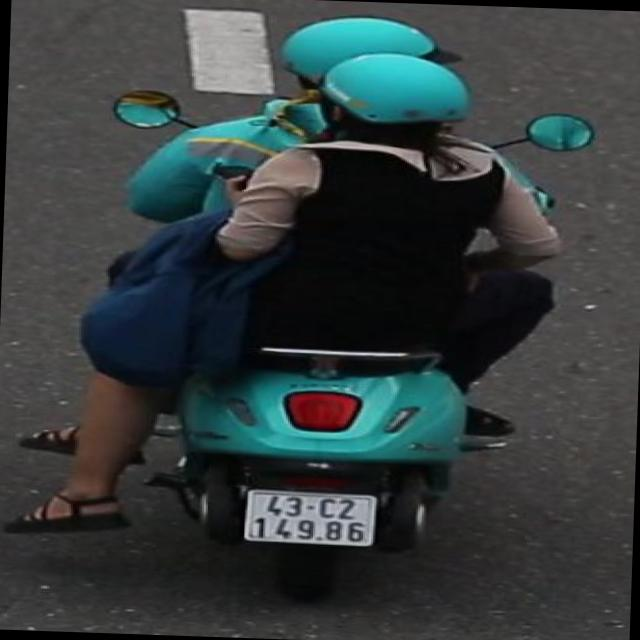LP: (240, 482, 388, 552)
helmet: (305, 46, 483, 162), (271, 6, 465, 90)
